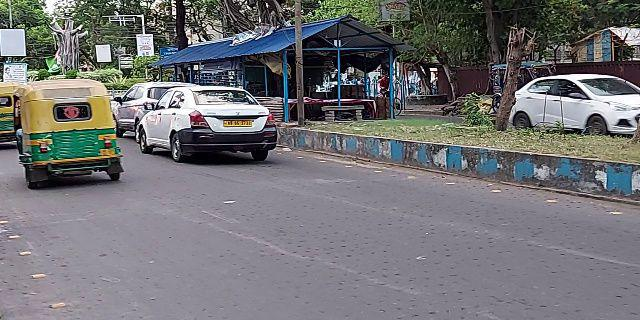Autorickshaw: (11, 77, 121, 193)
Car: (135, 83, 287, 162), (111, 78, 172, 135)
